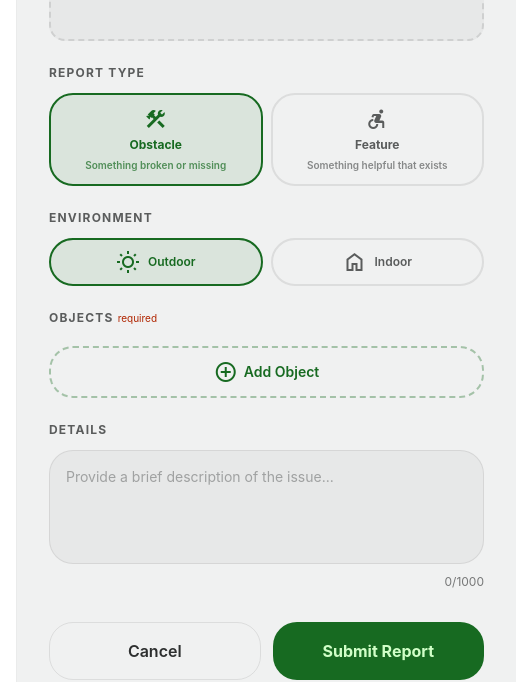
Scenario: CreateReportPanel › form validation › shows error when submitting without any objects
This screenshot has width=516, height=682.
(page scrolled)
What coordinates should you click on to do the following:
click the button "Submit Report"
I would click on:
 (378, 650)
Its box is [272,622,484,680].
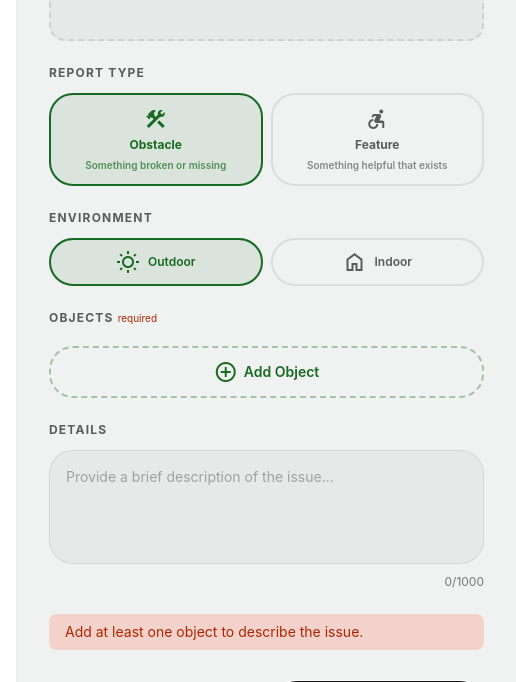
Result: the text "Add at least one object to describe the issue." is shown at [49,614,484,650]
